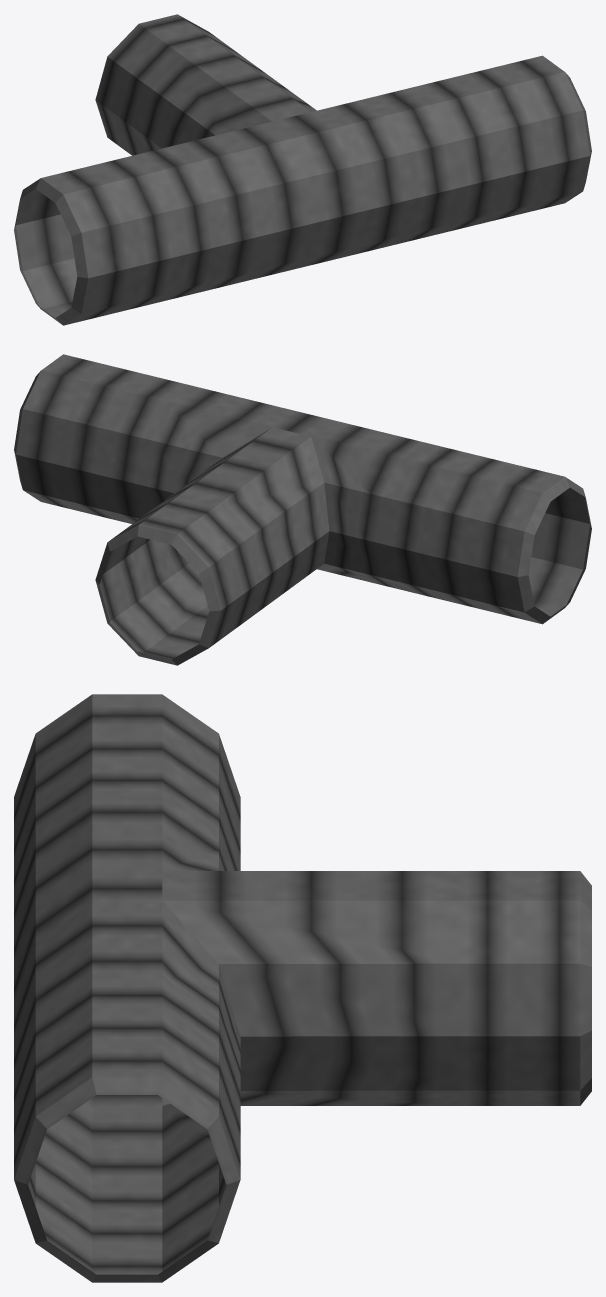
File: pipe_t.fbx
The picture shows the model from 3 angles, top to bottom: view 1: azimuth 30°, elevation 25°; view 2: azimuth 150°, elevation 25°; view 3: azimuth 270°, elevation 25°; orthographic projection. The views are drawn at different scales.
Parts seen in each view (by area): view 1: pipes.001; view 2: pipes.001; view 3: pipes.001.
Part boxes in pixels (x1,y1,x2,y2): pipes.001: (14,14,591,325); pipes.001: (14,354,591,665); pipes.001: (14,694,591,1282).
Size of the model in its own units: 410 by 100 by 255.
